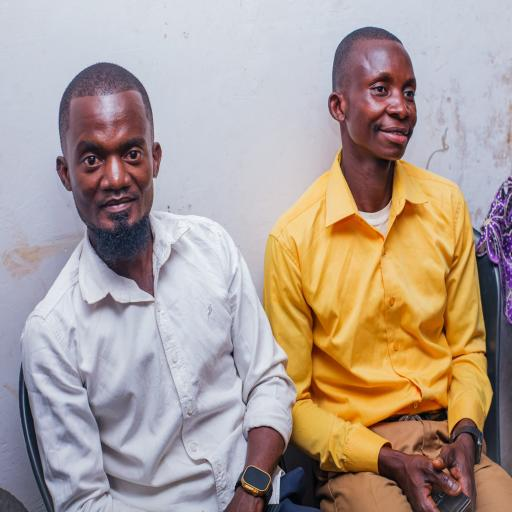MATTHIEU: (47, 56, 172, 275)
